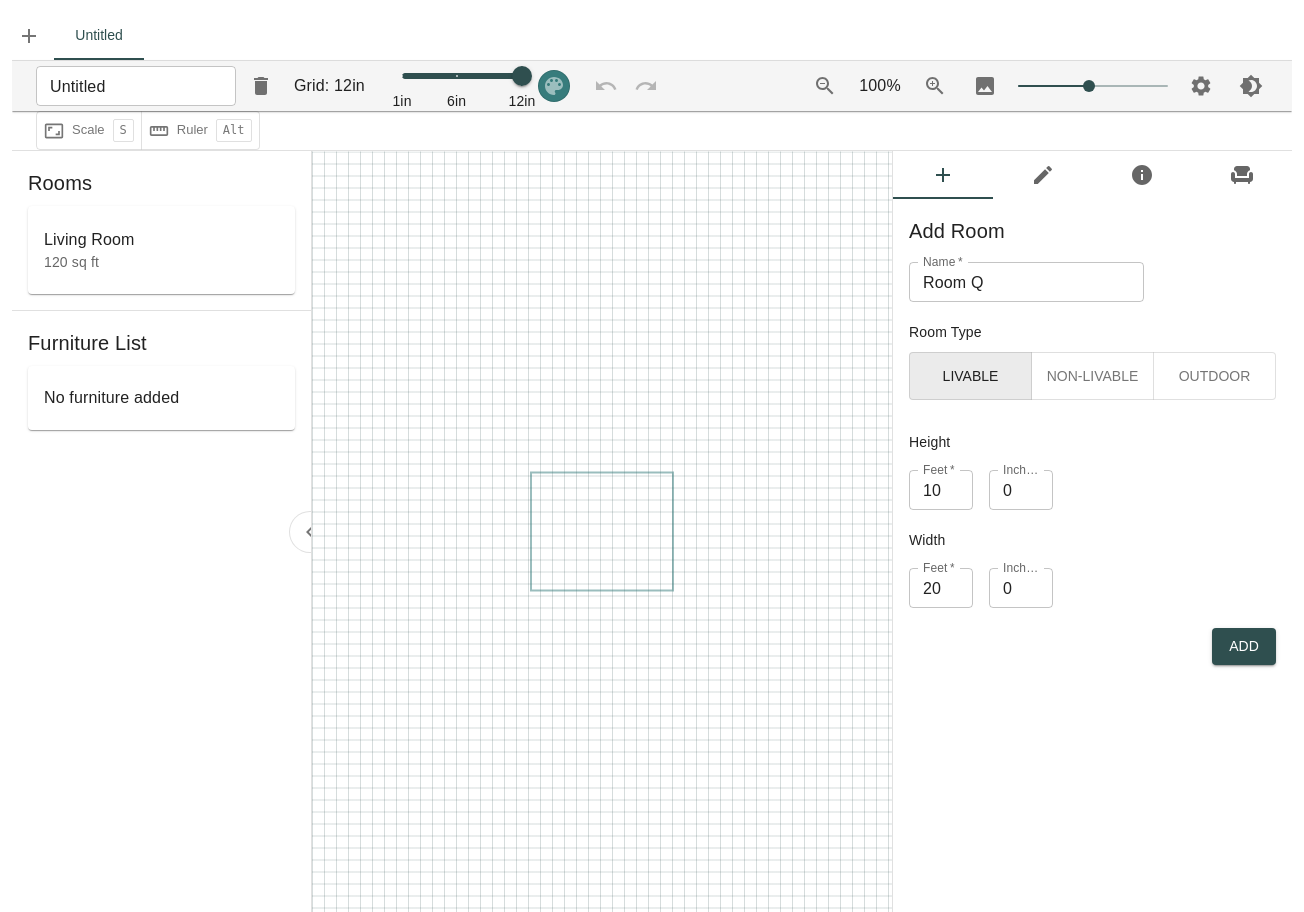
Test: App Component › allows switching between sidebar tabs
Test Edit tab
Click the tab named "Edit": {"x": 1043, "y": 175} [993, 151, 1093, 199]
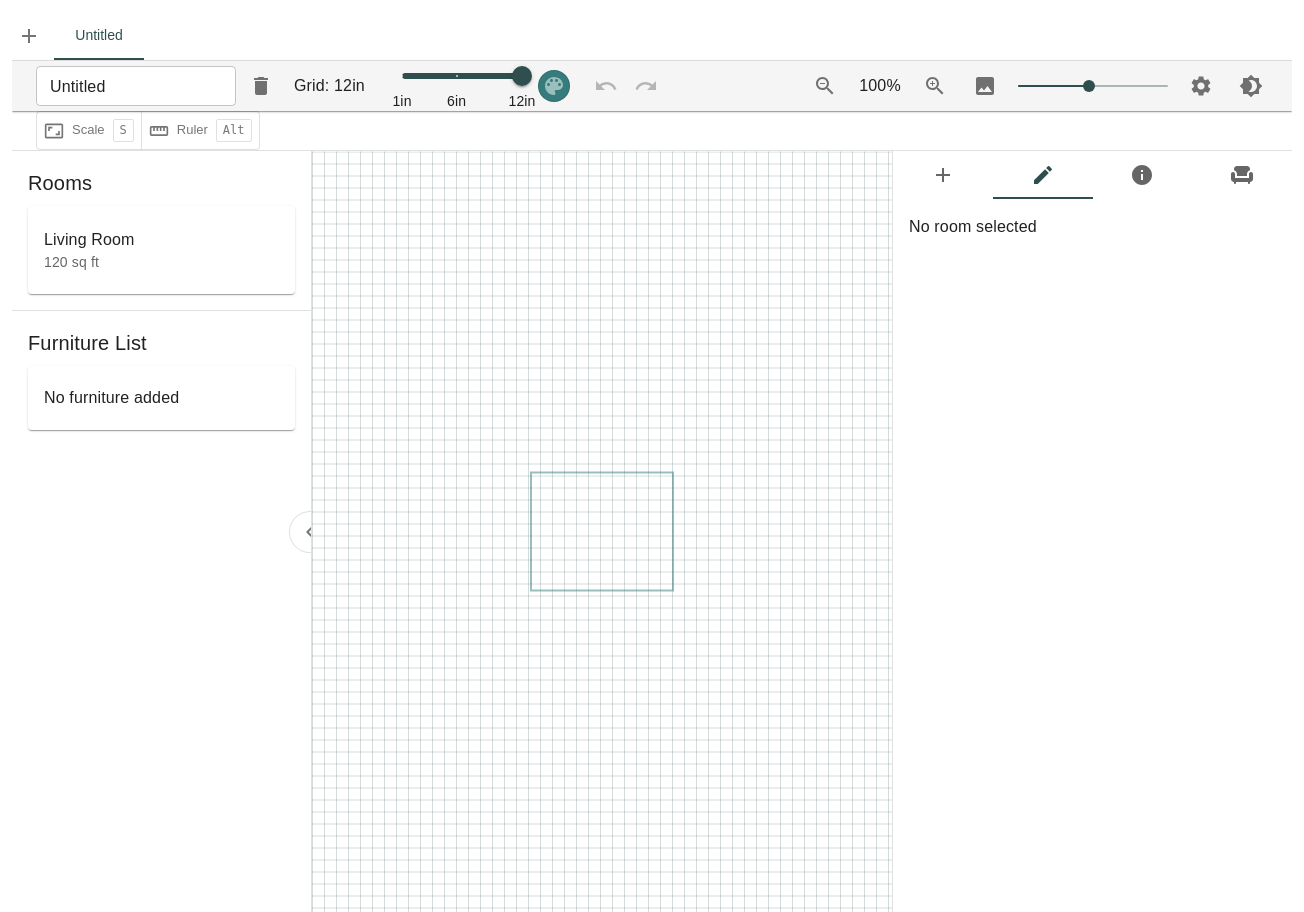
Check: the text "No room selected" is shown, box [909, 218, 1037, 235]
Test Floor Plan Details tab
Click the tab named "Floor Plan Details": {"x": 1142, "y": 175} [1092, 151, 1192, 199]
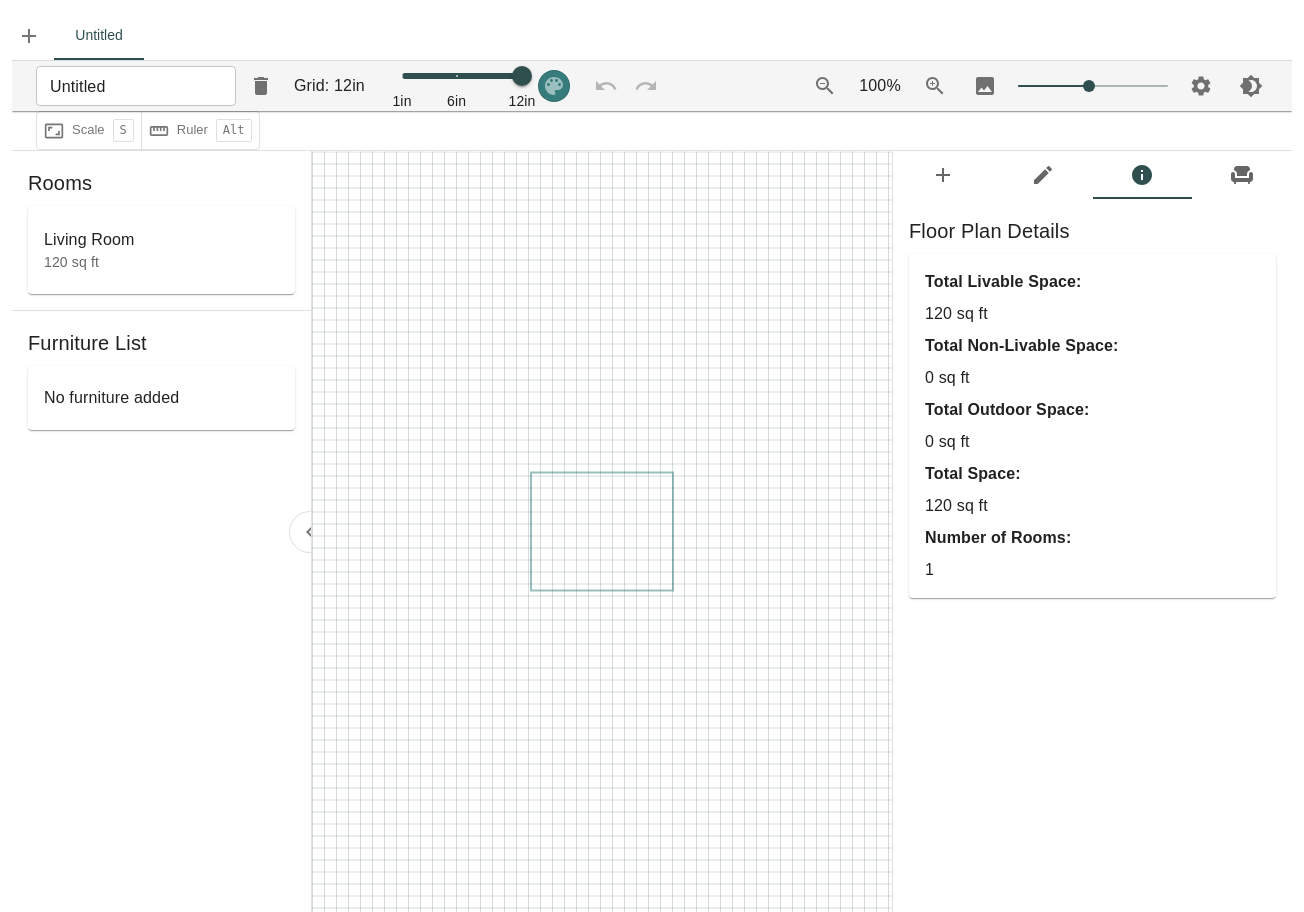
Check: the heading "Floor Plan Details" is shown, box [909, 220, 1070, 242]
